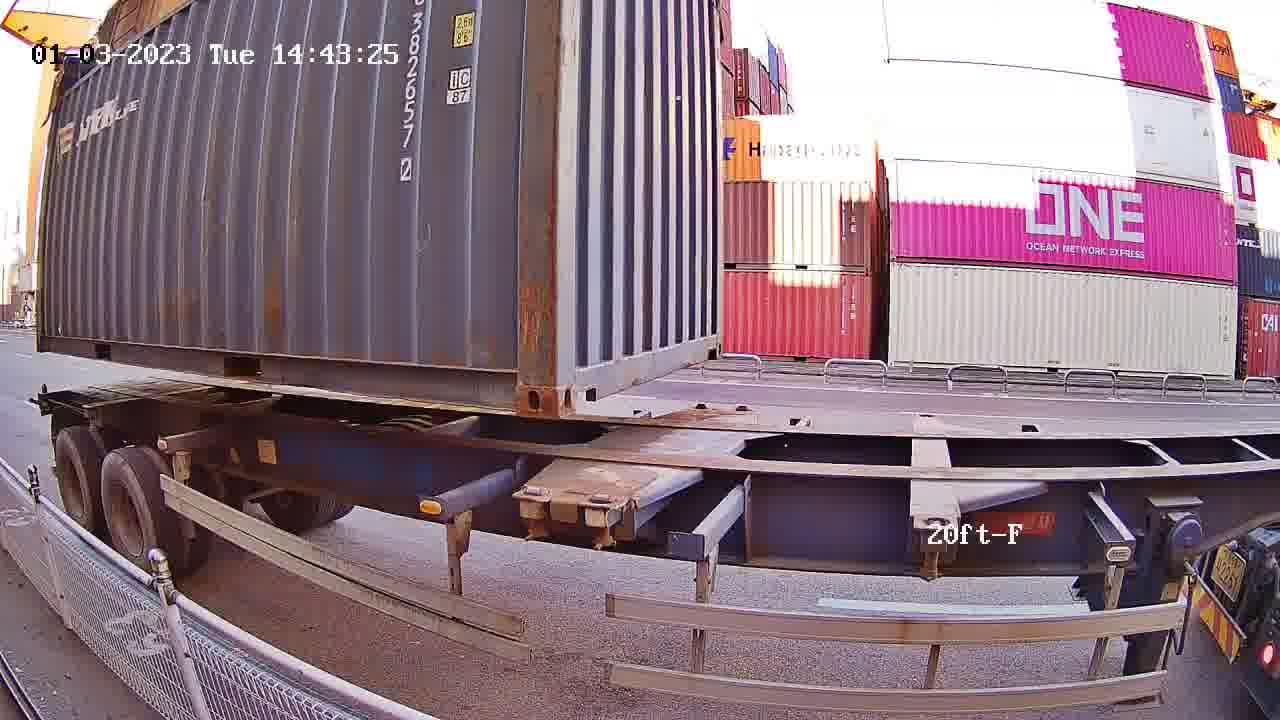Chassis: (518, 405, 715, 500), (582, 407, 758, 511)
Cone: (579, 493, 623, 551), (514, 485, 552, 542)
Hole_L: (553, 341, 608, 418)
Hole_R: (486, 346, 553, 421), (700, 323, 726, 361)
Tire: (100, 451, 157, 574), (53, 433, 96, 537)
